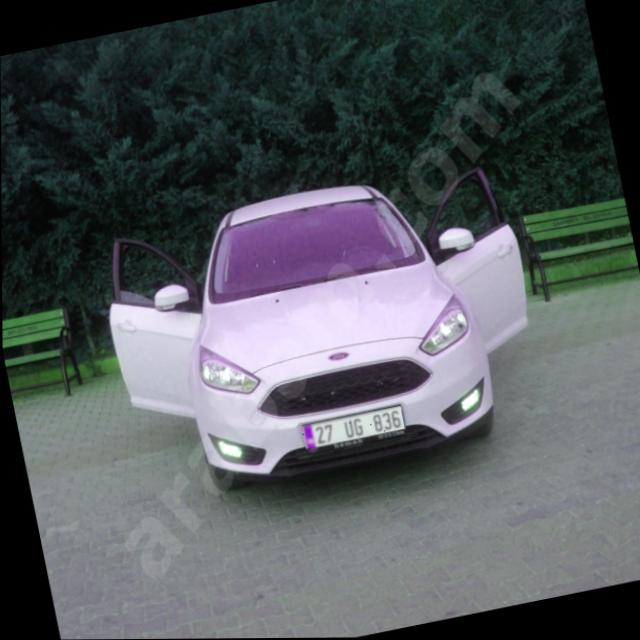license_plate: (300, 407, 405, 449)
